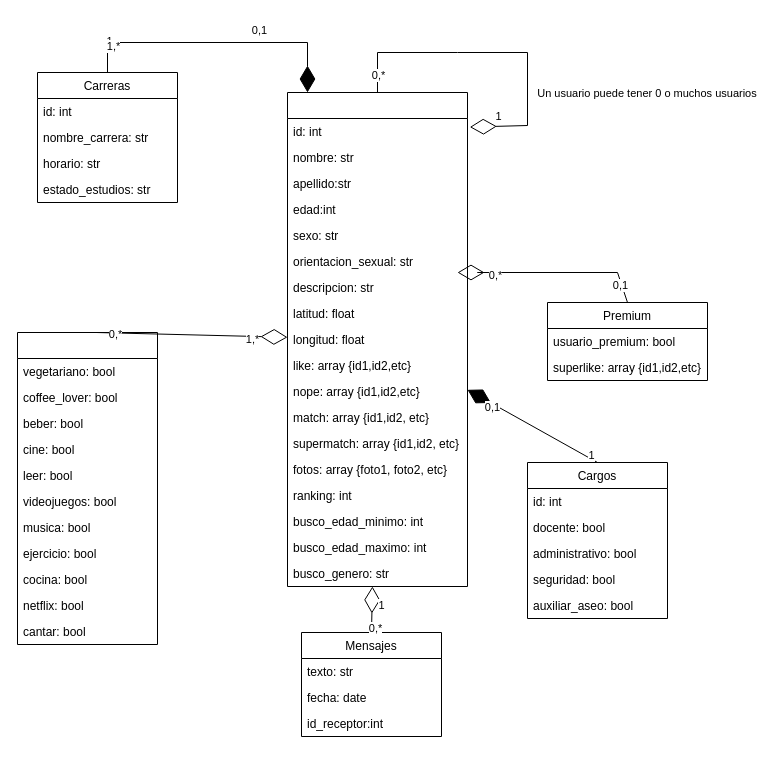
Image size: 777x757. Some labels were removed from this diagram. Each missing label, with the box of its shape:
Etiquetas: (16, 332, 158, 644)
Usuarios: (286, 92, 468, 586)
